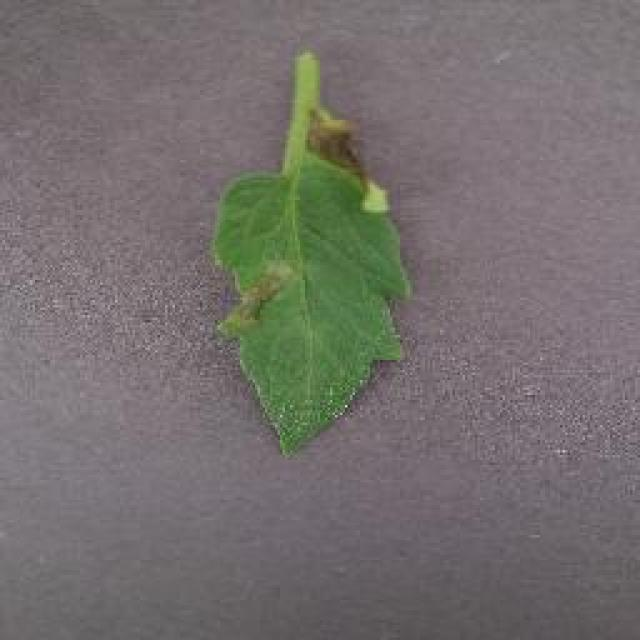Tomato Late Blight: (260, 78, 380, 237)
